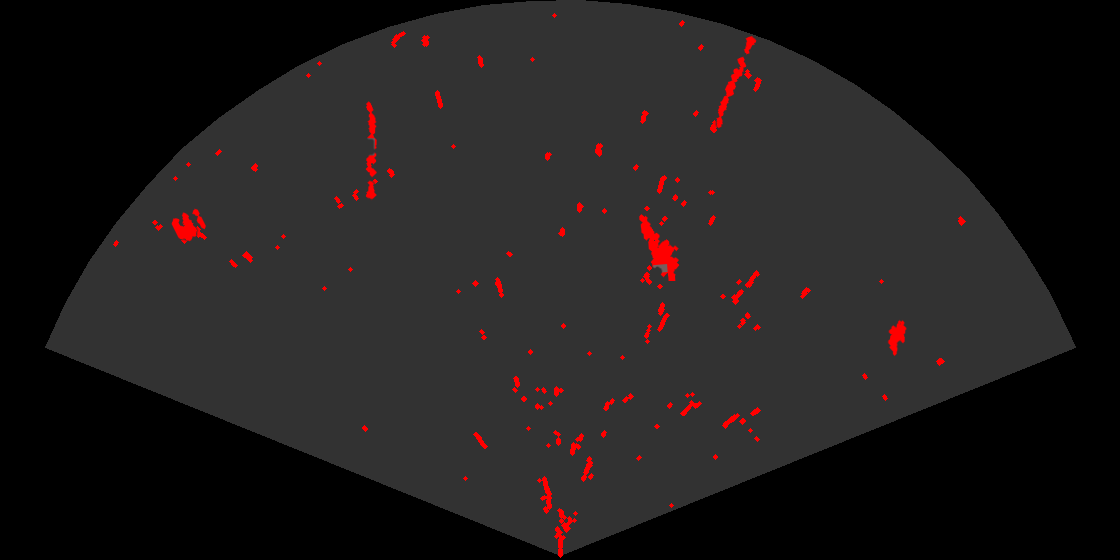AUV: (886, 318, 908, 358)
ball: (170, 207, 208, 243)
chain: (715, 34, 758, 130), (364, 100, 378, 201)
frogman: (638, 213, 681, 281)
